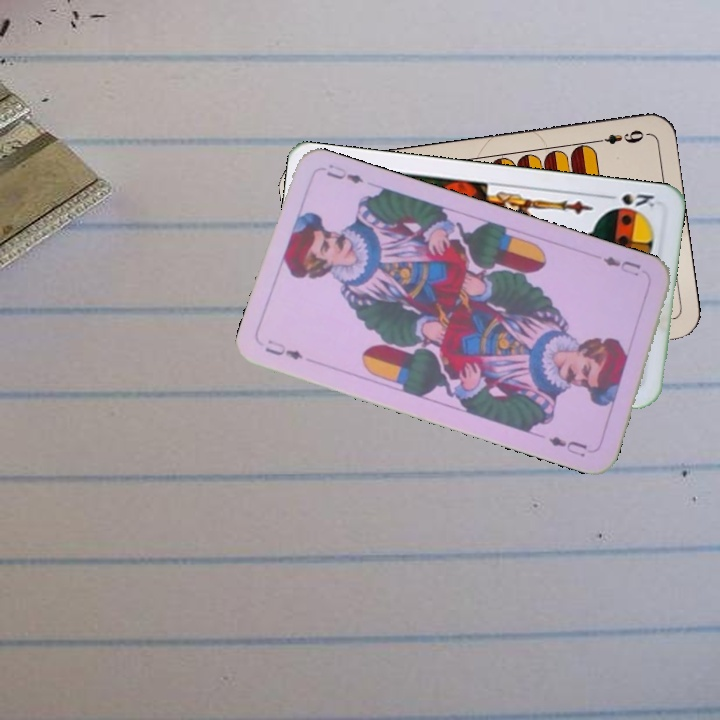E9: (590, 126, 649, 147)
EU: (261, 335, 305, 363), (599, 252, 644, 279)
SK: (600, 189, 657, 210)
